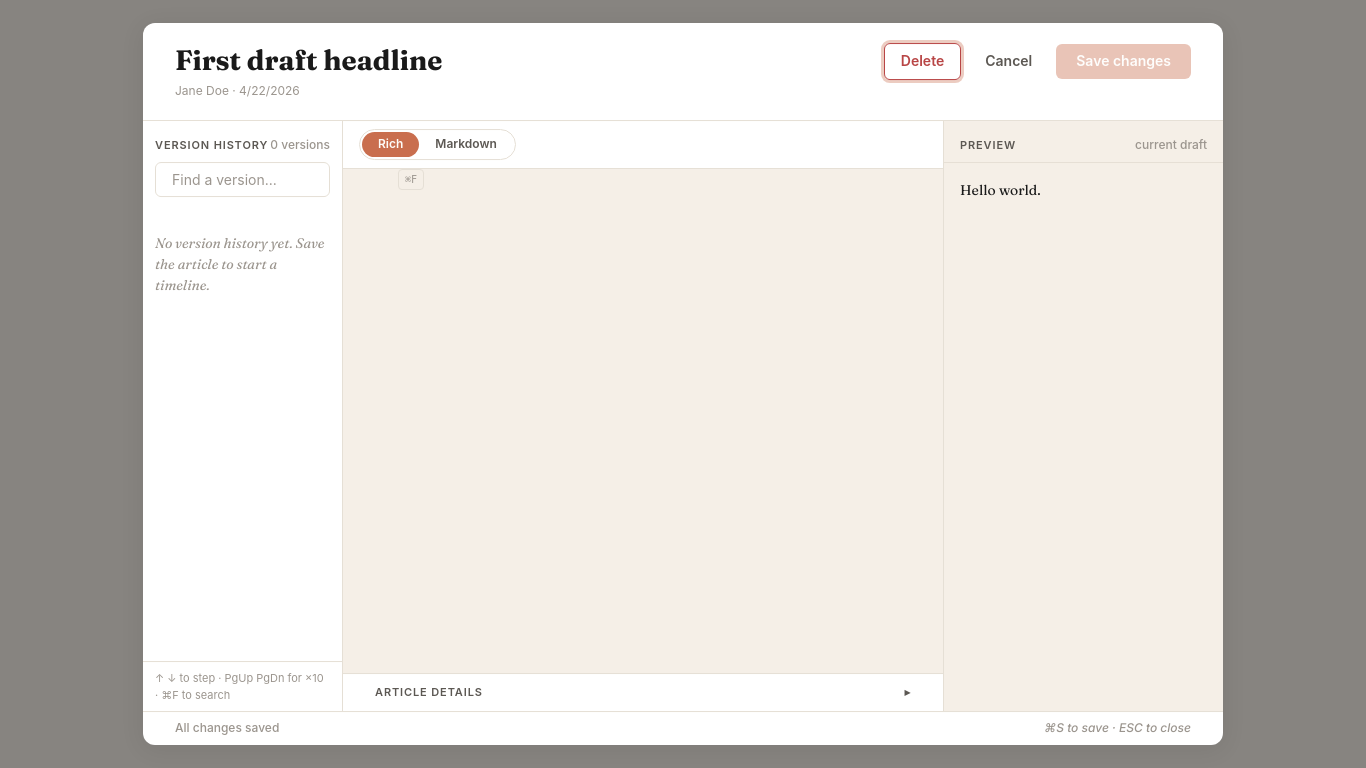
Test: <EditArticleModal> › Delete with no unsaved changes shows the standard confirm copy
Click the button with test id "edit-article-delete" at [922, 61], box [884,43,961,80]
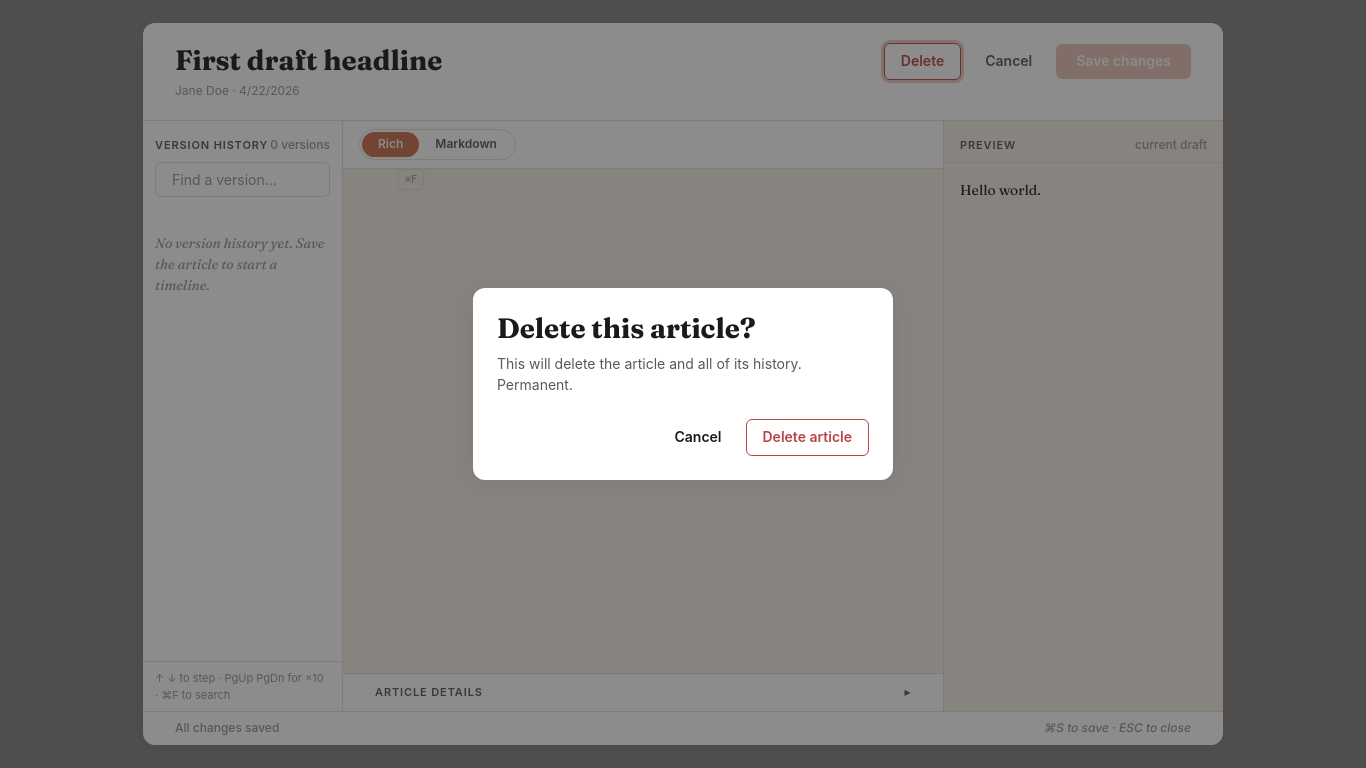
Expected: the dialog with test id "edit-article-delete-confirm" shows "This will delete the article and all of its history", [497,355,802,393]
